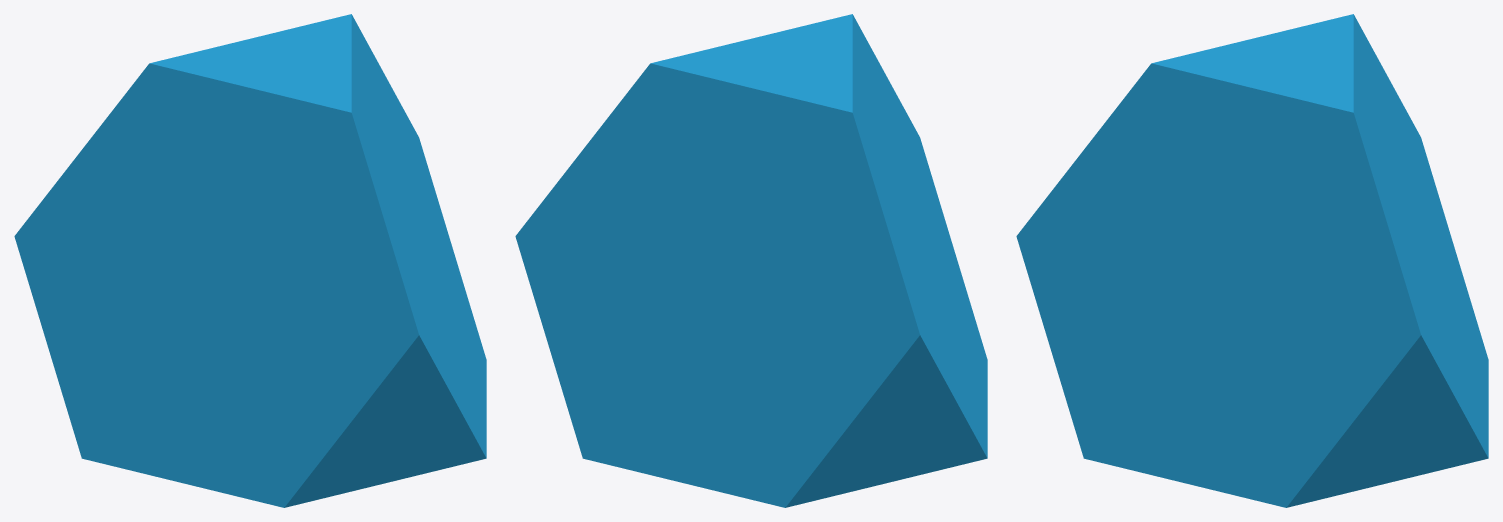
Rendered from truncatedtetrahedron.gltf.
3 renders of one model, left to right at view 1: azimuth 30°, elevation 25°; view 2: azimuth 150°, elevation 25°; view 3: azimuth 270°, elevation 25°, orthographic.
Parts seen in each view (by area): view 1: GD_mesh.001; view 2: GD_mesh.001; view 3: GD_mesh.001.
Boxes of the visible parts, box(x1,y1,x2,y2) form: GD_mesh.001: box(14, 14, 486, 507); GD_mesh.001: box(515, 14, 987, 507); GD_mesh.001: box(1016, 14, 1488, 507).
Bounding box in the file's own units: 1.71 × 1.39 × 1.72.
